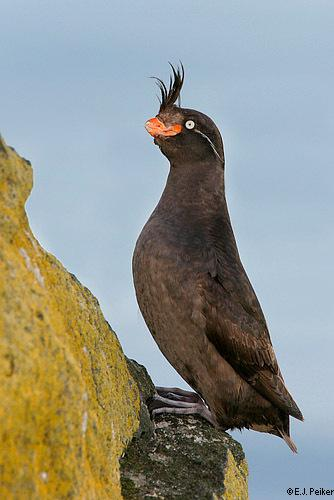005.Crested_Auklet: (129, 62, 305, 454)
